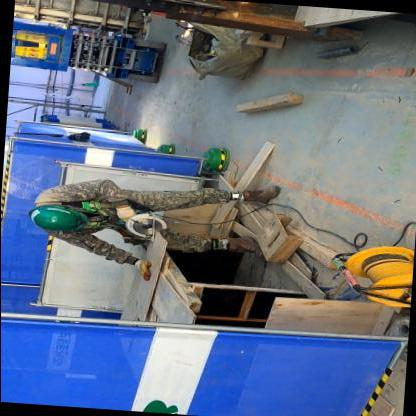Helmet: (27, 199, 90, 240)
safety-shoe: (236, 180, 288, 211), (212, 233, 265, 261)
